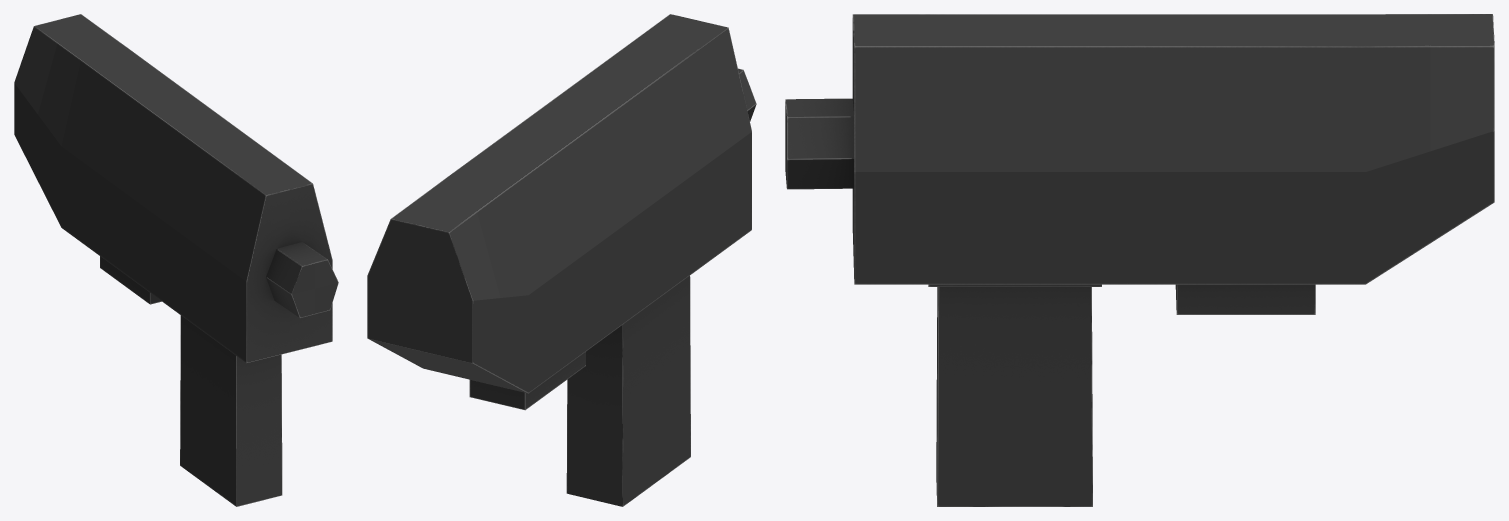
3 views of the same model, side by side, from view 1: azimuth 30°, elevation 25°; view 2: azimuth 150°, elevation 25°; view 3: azimuth 270°, elevation 25° (orthographic). The views are drawn at different scales.
Visible parts, largest first — view 1: Cube; view 2: Cube; view 3: Cube.
Part boxes in pixels (left/top/right/bottom): Cube: left=14, top=14, right=338, bottom=506; Cube: left=367, top=14, right=756, bottom=506; Cube: left=785, top=14, right=1494, bottom=506.
Size of the model in its own units: 0.3527 by 1.29 by 1.8.
1 material, 1 textured.
